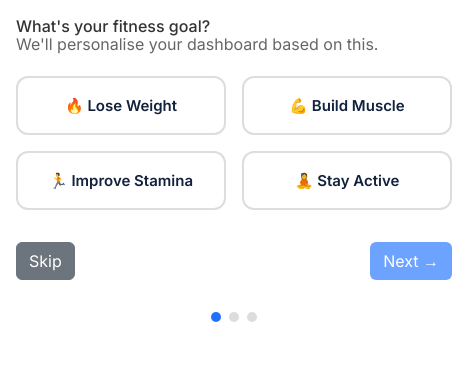
Test case: Onboarding › goes back to goal screen when Back is clicked on step 2
The width and height of the screenshot is (469, 382).
Click the switch "🔥 Lose Weight" at (121,106), box [16,76,226,135]
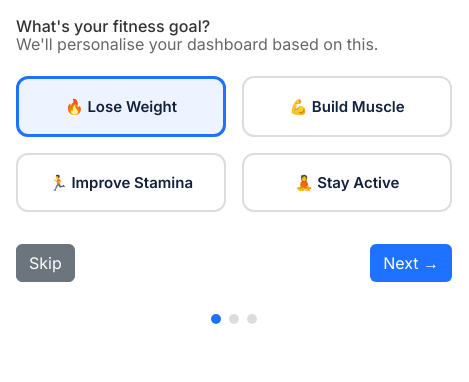
Click the button "Next →" at (411,263), box [370,244,452,282]
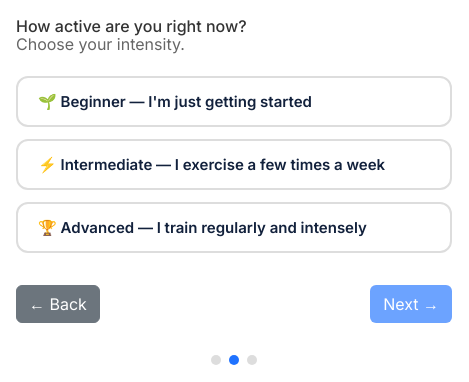
Click the button "← Back" at (58,304), box [16,285,100,323]
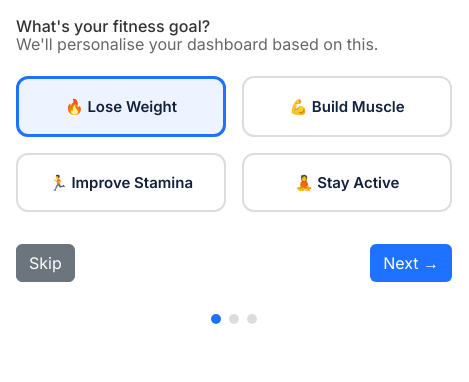
Check: the heading "What's your fitness goal?" is shown, box [16,16,210,36]
